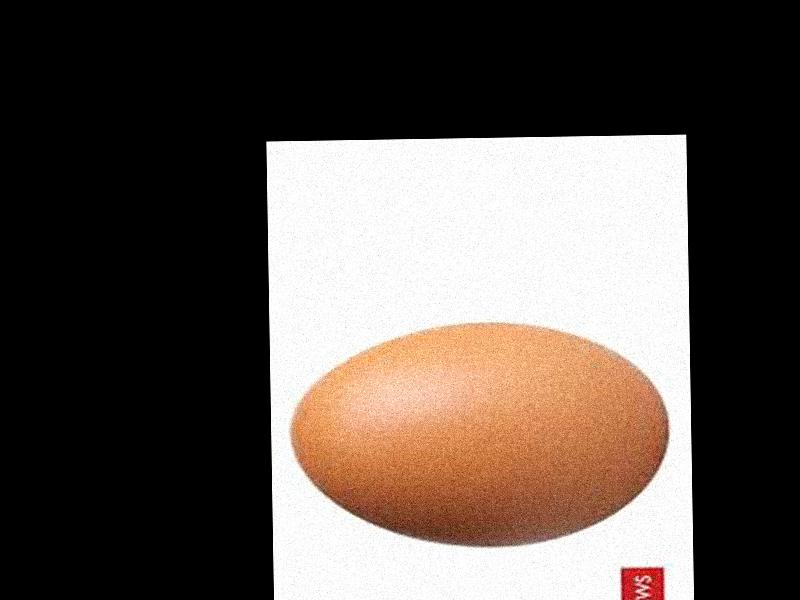Eggs: (292, 319, 668, 549)
